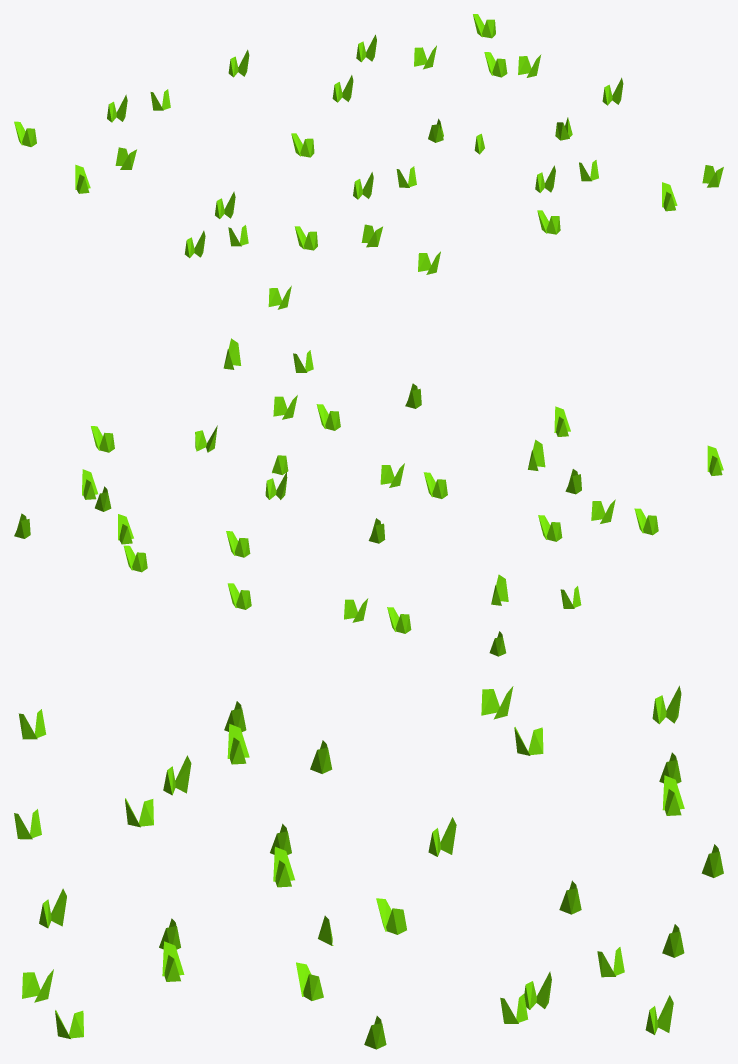
The model's file is grassPatch.dae.
The picture shows the model from 3 angles, top to bottom: view 1: azimuth 30°, elevation 25°; view 2: azimuth 150°, elevation 25°; view 3: azimuth 270°, elevation 25°; orthographic projection. The views are drawn at different scales.
Visible parts, largest first — view 1: Grass_Patch_Square_02; view 2: Grass_Patch_Square_02; view 3: Grass_Patch_Square_02.
Boxes of the visible parts, x1,y1,x2,y2 form: Grass_Patch_Square_02: (14,14,723,309); Grass_Patch_Square_02: (14,338,723,656); Grass_Patch_Square_02: (14,685,723,1049).
Bounding box in the file's own units: 362 × 15.86 × 317.
